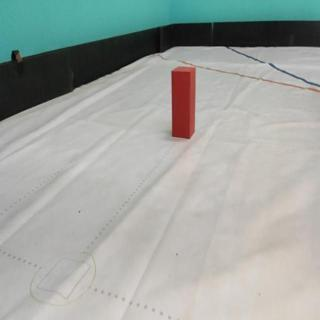redbox: (172, 65, 196, 138)
